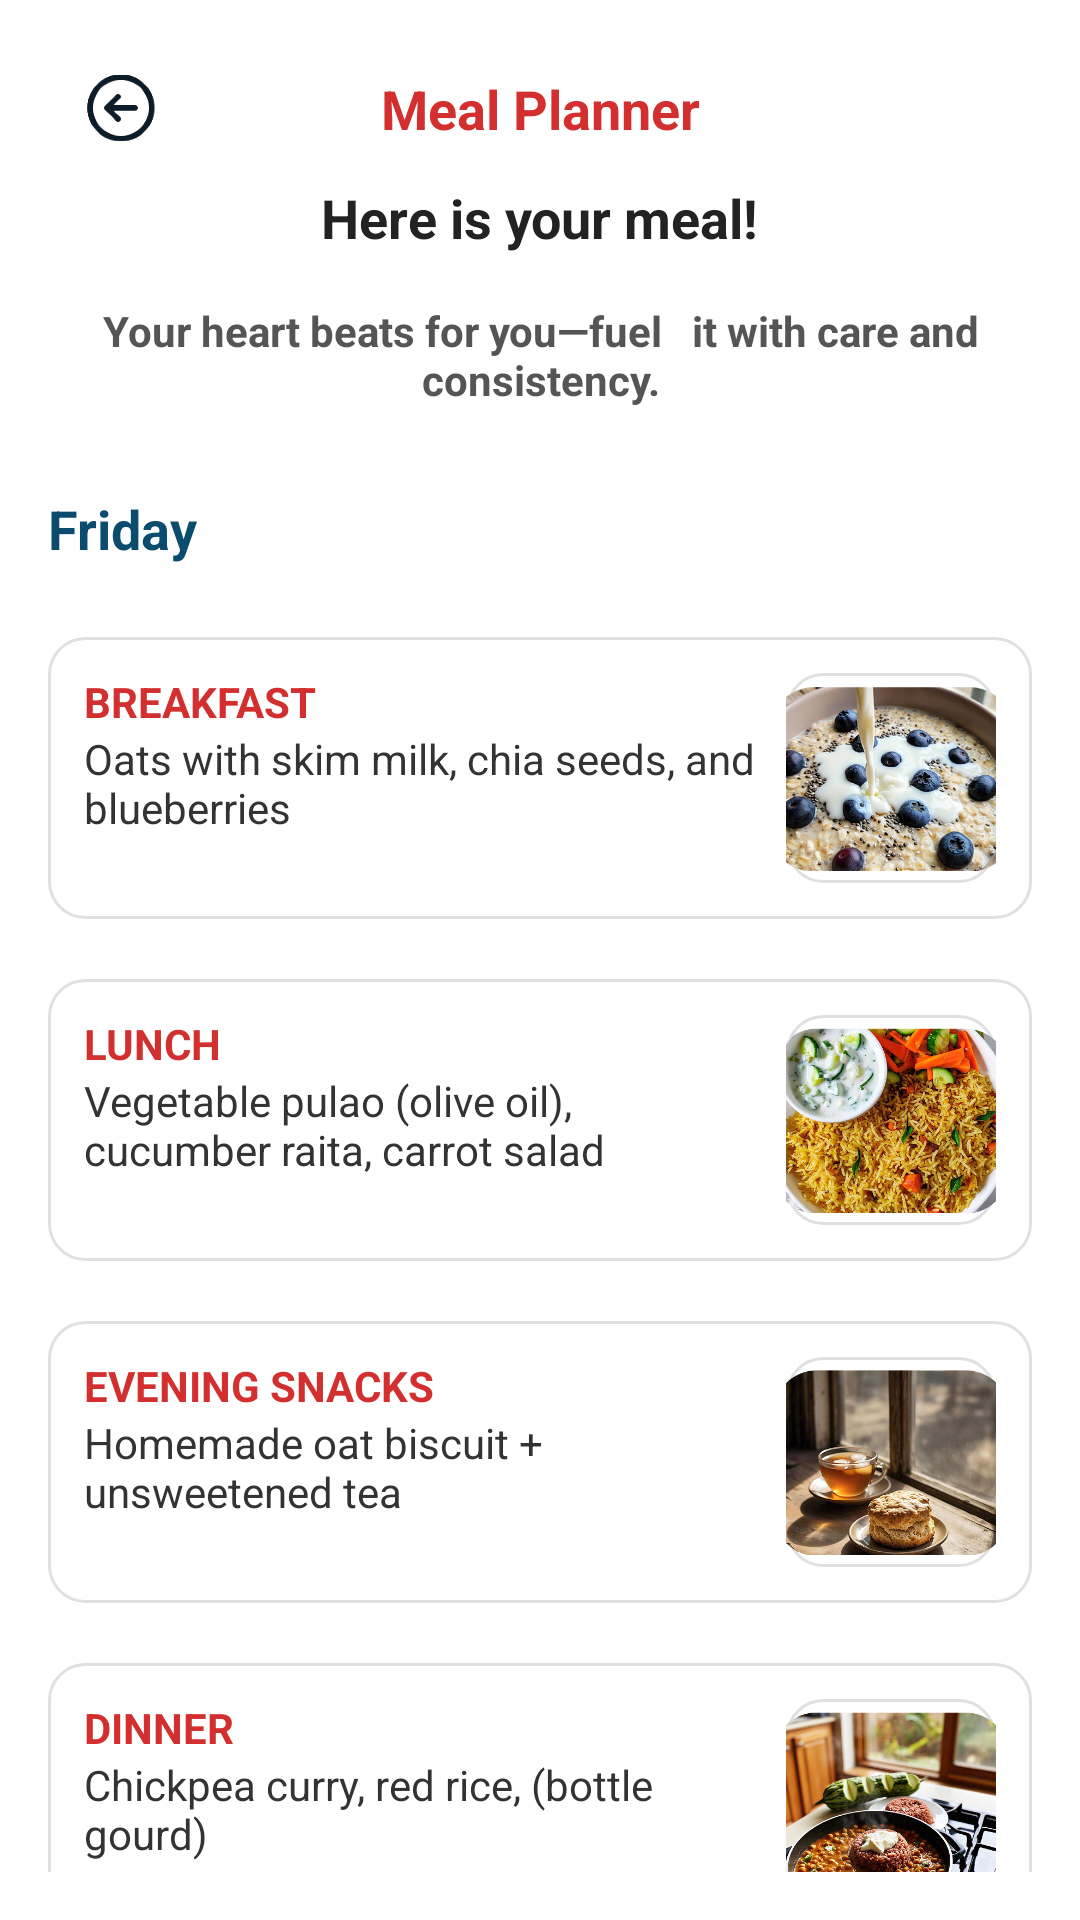

Icons on this 1080px x 1920px Android screen, each with its box as bbox=[x1, y1, x2, y2]:
Back: bbox=[87, 75, 155, 141]
breakfast: bbox=[786, 673, 996, 883]
dinner: bbox=[786, 1699, 996, 1872]
lunch: bbox=[786, 1015, 996, 1225]
